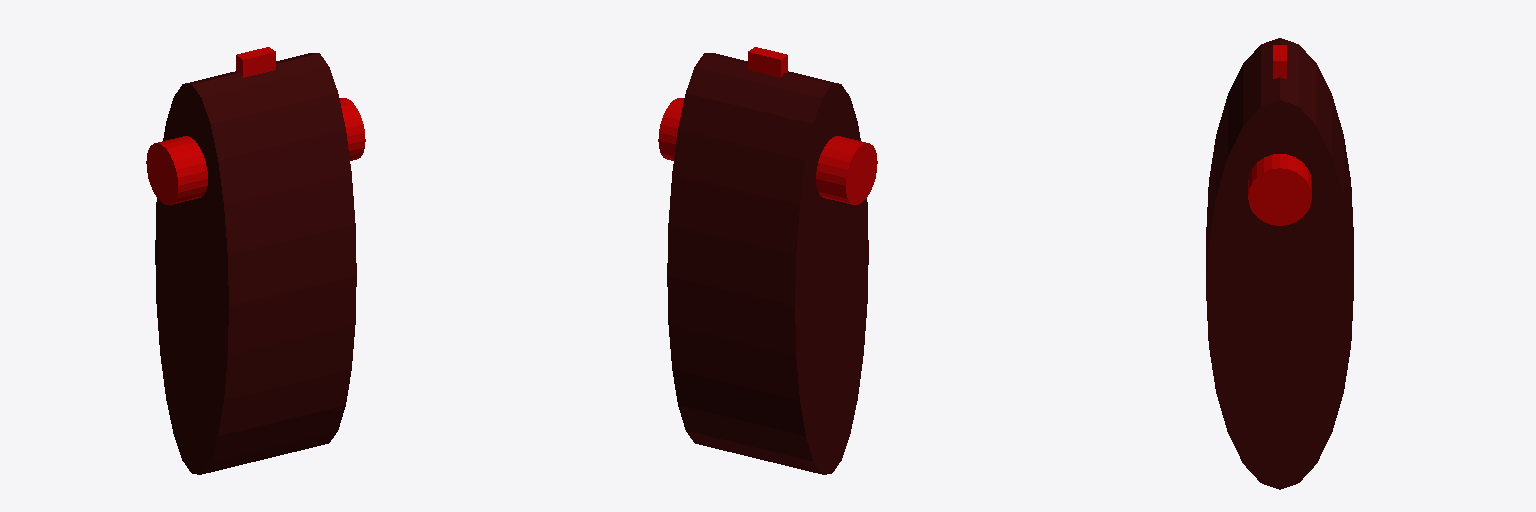
File: bossbody.obj
The picture shows the model from 3 angles: view 1: azimuth 30°, elevation 25°; view 2: azimuth 150°, elevation 25°; view 3: azimuth 270°, elevation 25°; orthographic projection.
Parts seen in each view (by area): view 1: Cylinder2, Cylinder3, Box1; view 2: Cylinder2, Cylinder3, Box1; view 3: Cylinder2, Cylinder3.
Part boxes in pixels (x1,y1,x2,y2): Cylinder2: (155,53,356,474); Cylinder3: (146,98,365,204); Box1: (236,47,275,77); Cylinder2: (667,53,868,474); Cylinder3: (658,98,877,204); Box1: (748,47,787,77); Cylinder2: (1206,38,1353,489); Cylinder3: (1248,154,1311,225).
Bounding box in the file's own units: 1.47 × 3.03 × 1.